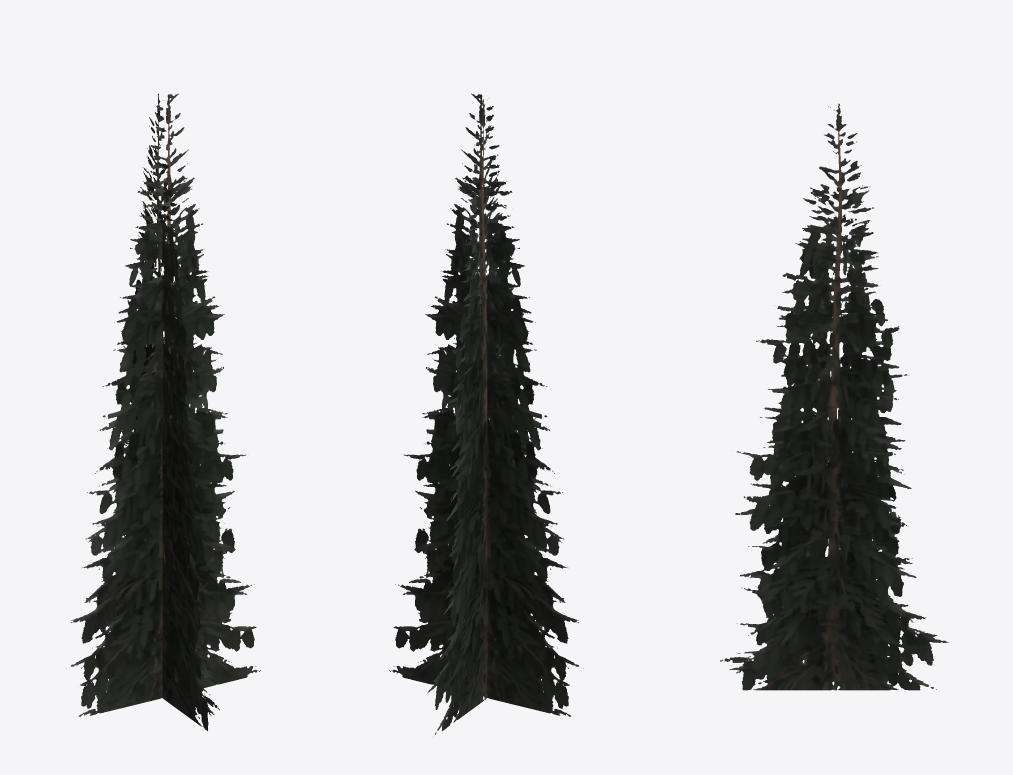
Rendered from spruce_a_LOD2_billboard.fbx.
The picture shows the model from 3 angles, left to right: view 1: azimuth 30°, elevation 25°; view 2: azimuth 150°, elevation 25°; view 3: azimuth 270°, elevation 25°; orthographic projection. The views are drawn at different scales.
Parts seen in each view (by area): view 1: Spruce_A_LOD2_Billboard; view 2: Spruce_A_LOD2_Billboard; view 3: Spruce_A_LOD2_Billboard.
Part boxes in pixels (<box>): Spruce_A_LOD2_Billboard: <box>66,93,260,730</box>; Spruce_A_LOD2_Billboard: <box>389,93,583,734</box>; Spruce_A_LOD2_Billboard: <box>720,103,948,690</box>.
Size of the model in its own units: 13.58 by 27.15 by 13.58.
1 material, 1 textured.
